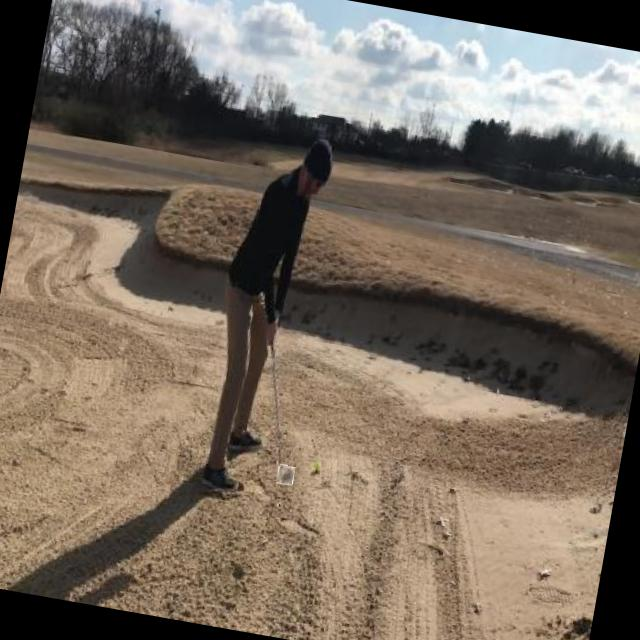club head: (276, 464, 295, 486)
